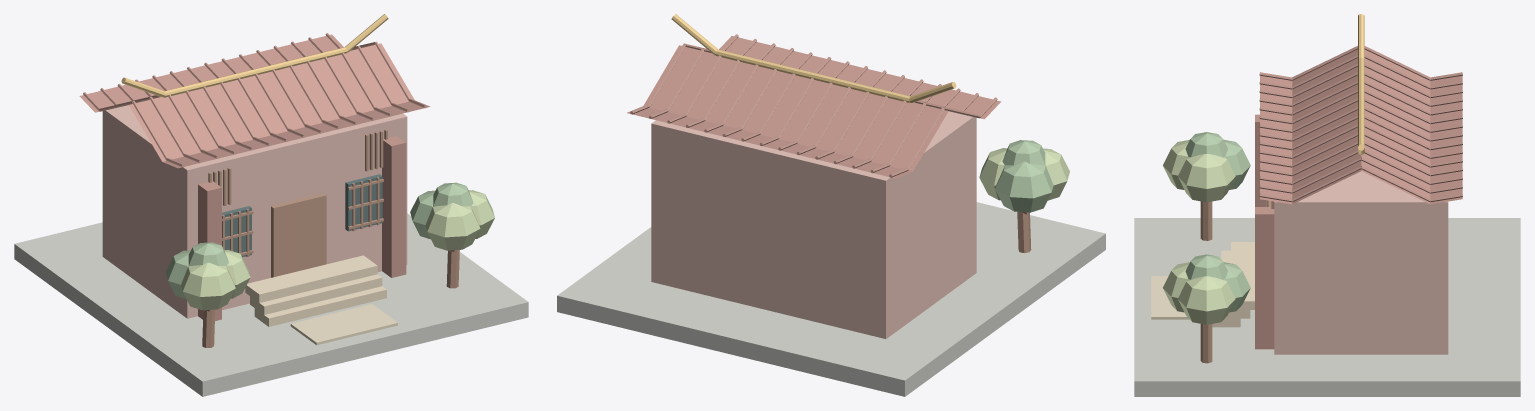
File: dot-tpl-culture.glb
3 views of the same model, side by side, from view 1: azimuth 30°, elevation 25°; view 2: azimuth 150°, elevation 25°; view 3: azimuth 270°, elevation 25° (orthographic). The views are drawn at different scales.
Visible parts, largest first — view 1: paving; view 2: paving; view 3: paving.
Boxes of the visible parts, x1,y1,x2,y2 form: paving: [14, 14, 528, 396]; paving: [557, 14, 1105, 396]; paving: [1134, 14, 1520, 396].
Size of the model in its own units: 4 by 2.7 by 4.
1 material, 1 textured.
